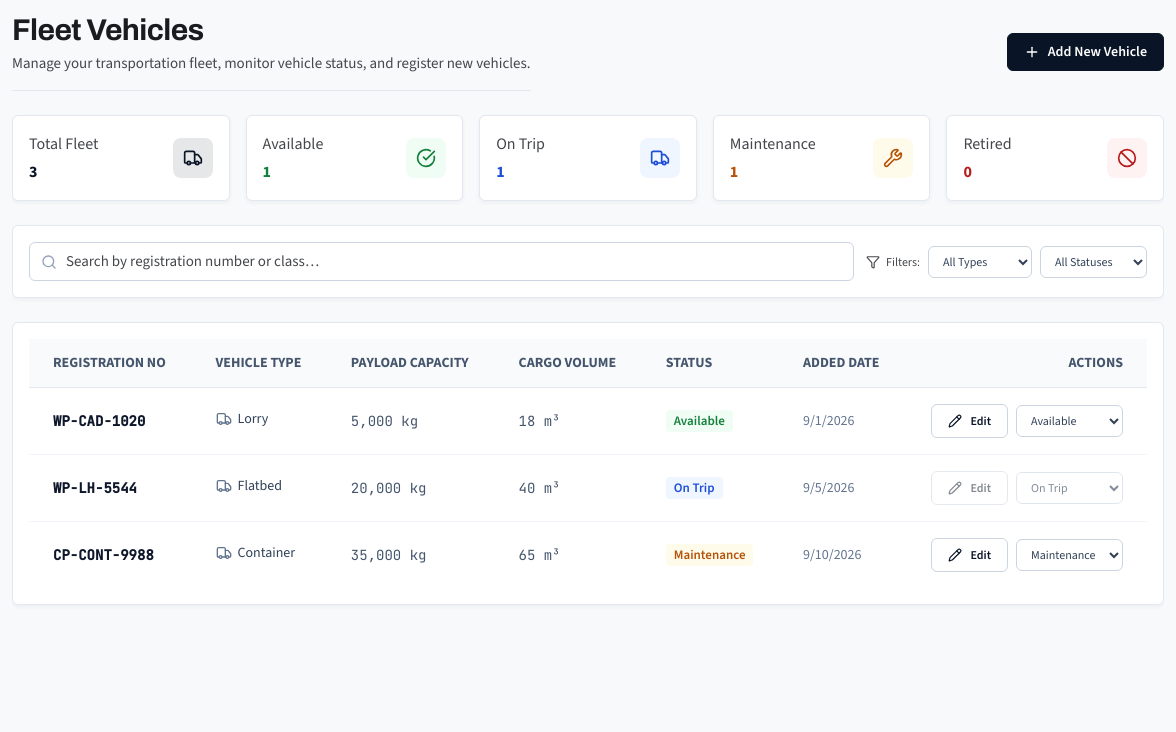
Test: FleetVehiclesPage › filters vehicles by search text query
Step 1. Type "CONT" into the field with placeholder "Search by registration number or class…" → point(442, 262), box x1=29 y1=242 x2=854 y2=281
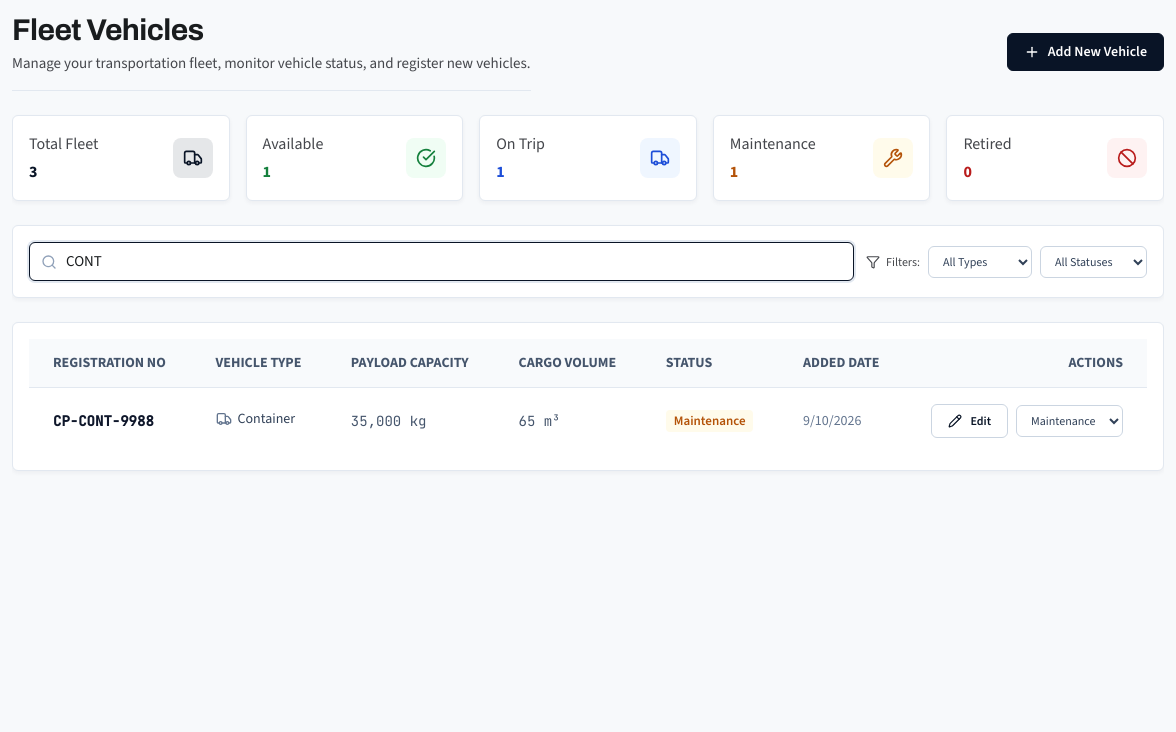
expect the text "CP-CONT-9988" is shown: met, box x1=29 y1=388 x2=192 y2=454
expect the text "WP-CAD-1020" is gone: met
expect the text "WP-LH-5544" is gone: met
